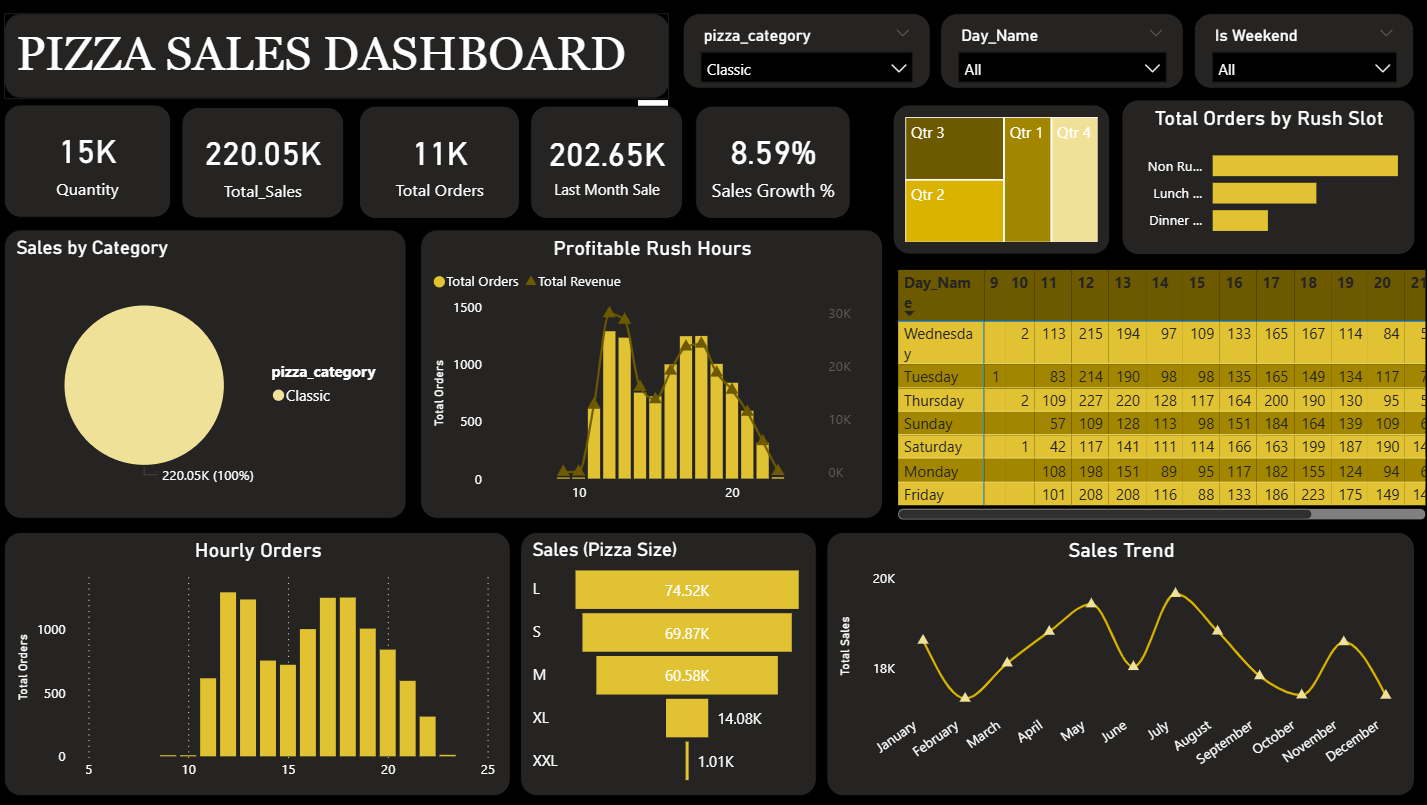

This screenshot's page, from the dashboard's own definition file:
{"tool":"powerbi","page":{"name":"Page 1","canvas":[1280,720],"ordinal":0},"visuals":[{"type":"textbox","box":[8.6,14.7,592.6,76.1],"z":0},{"type":"lineChart","title":"Sales Trend","fields":{"Category":["Date Table.Date.Variation.Date Hierarchy.Month"],"Y":["pizza_sales.Total Revenue"]},"box":[741.1,476.1,523.9,235.6],"z":1000},{"type":"treemap","fields":{"Group":["Date Table.Date.Variation.Date Hierarchy.Quarter"],"Values":["pizza_sales.Total Revenue"]},"box":[800,95.7,193.9,133.7],"z":2000},{"type":"pieChart","title":"Sales by Category","fields":{"Category":["pizza_sales.pizza_category"],"Y":["Sum(pizza_sales.total_price)"]},"box":[18.4,207.4,348.5,257.7],"z":3000},{"type":"card","fields":{"Values":["Sum(pizza_sales.total_price)"]},"box":[166.9,98.2,144.8,99.4],"z":4000},{"type":"card","fields":{"Values":["Sum(pizza_sales.quantity)"]},"box":[8.6,95.7,148.5,100.6],"z":5000},{"type":"card","fields":{"Values":["pizza_sales.Total Orders"]},"box":[325.2,96.9,143.6,100.6],"z":6000},{"type":"funnel","title":"Sales (Pizza Size)","fields":{"Y":["Sum(pizza_sales.total_price)"],"Category":["pizza_sales.pizza_size"]},"box":[477.3,476.1,246.6,235.6],"z":7000},{"type":"slicer","title":"Pizza Size","fields":{"Values":["pizza_sales.pizza_category"]},"box":[613.5,14.7,220.9,67.5],"z":8000},{"type":"pivotTable","fields":{"Rows":["pizza_sales.Day_Name"],"Columns":["pizza_sales.Hour"],"Values":["pizza_sales.Total Orders"]},"box":[800,238,479.8,231.9],"z":9000},{"type":"columnChart","title":"Hourly Orders","fields":{"Category":["pizza_sales.Hour"],"Y":["pizza_sales.Total Orders"]},"box":[18.4,476.1,441.7,235.6],"z":10000},{"type":"lineStackedColumnComboChart","title":"Profitable Rush Hours","fields":{"Category":["pizza_sales.Hour"],"Y":["pizza_sales.Total Orders"],"Y2":["pizza_sales.Total Revenue"]},"box":[379.1,207.4,412.3,257.7],"z":11000},{"type":"barChart","fields":{"Category":["pizza_sales.Run Slot"],"Y":["pizza_sales.Total Orders"]},"box":[1003.7,90.8,261.4,138.7],"z":12000},{"type":"slicer","title":"Pizza Size","fields":{"Values":["pizza_sales.Day_Name"]},"box":[842.9,14.7,217.2,67.5],"z":13000},{"type":"slicer","title":"Pizza Size","fields":{"Values":["pizza_sales.Is Weekend"]},"box":[1068.7,14.7,196.3,67.5],"z":14000},{"type":"card","fields":{"Values":["Date Table.Sales Growth %"]},"box":[624.5,96.9,138.7,100.6],"z":14001},{"type":"card","fields":{"Values":["Date Table.Previous Month Revenue"]},"box":[477.3,96.9,136.2,100.6],"z":14002}]}

Visuals, with their boxes in screenshot pixels (x1, y1, x2, y2), scaled from the page's 1280x720 canvas onto the 1427x805 screenshot:
textbox: <box>10,16,670,102</box>
"Sales Trend" lineChart: <box>826,532,1410,796</box>
treemap - Date Table.Date.Variation.Date Hierarchy.Quarter x pizza_sales.Total Revenue: <box>892,107,1108,256</box>
"Sales by Category" pieChart: <box>21,232,409,520</box>
card - Sum(pizza_sales.total_price): <box>186,110,347,221</box>
card - Sum(pizza_sales.quantity): <box>10,107,175,219</box>
card - pizza_sales.Total Orders: <box>363,108,523,221</box>
"Sales (Pizza Size)" funnel: <box>532,532,807,796</box>
"Pizza Size" slicer: <box>684,16,930,92</box>
pivotTable - pizza_sales.Day_Name x pizza_sales.Hour: <box>892,266,1426,525</box>
"Hourly Orders" columnChart: <box>21,532,513,796</box>
"Profitable Rush Hours" lineStackedColumnComboChart: <box>423,232,882,520</box>
barChart - pizza_sales.Run Slot x pizza_sales.Total Orders: <box>1119,102,1410,257</box>
"Pizza Size" slicer: <box>940,16,1182,92</box>
"Pizza Size" slicer: <box>1191,16,1410,92</box>
card - Date Table.Sales Growth %: <box>696,108,851,221</box>
card - Date Table.Previous Month Revenue: <box>532,108,684,221</box>
